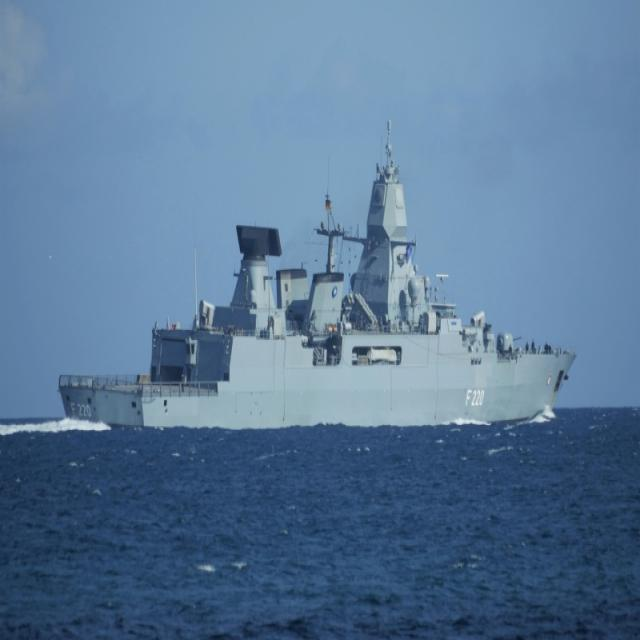Fragata: (58, 105, 583, 437)
